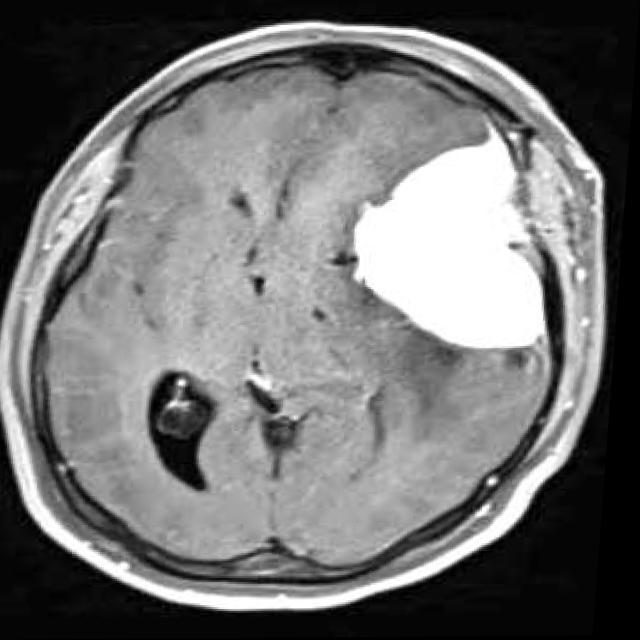Tumor: (358, 136, 550, 347)
